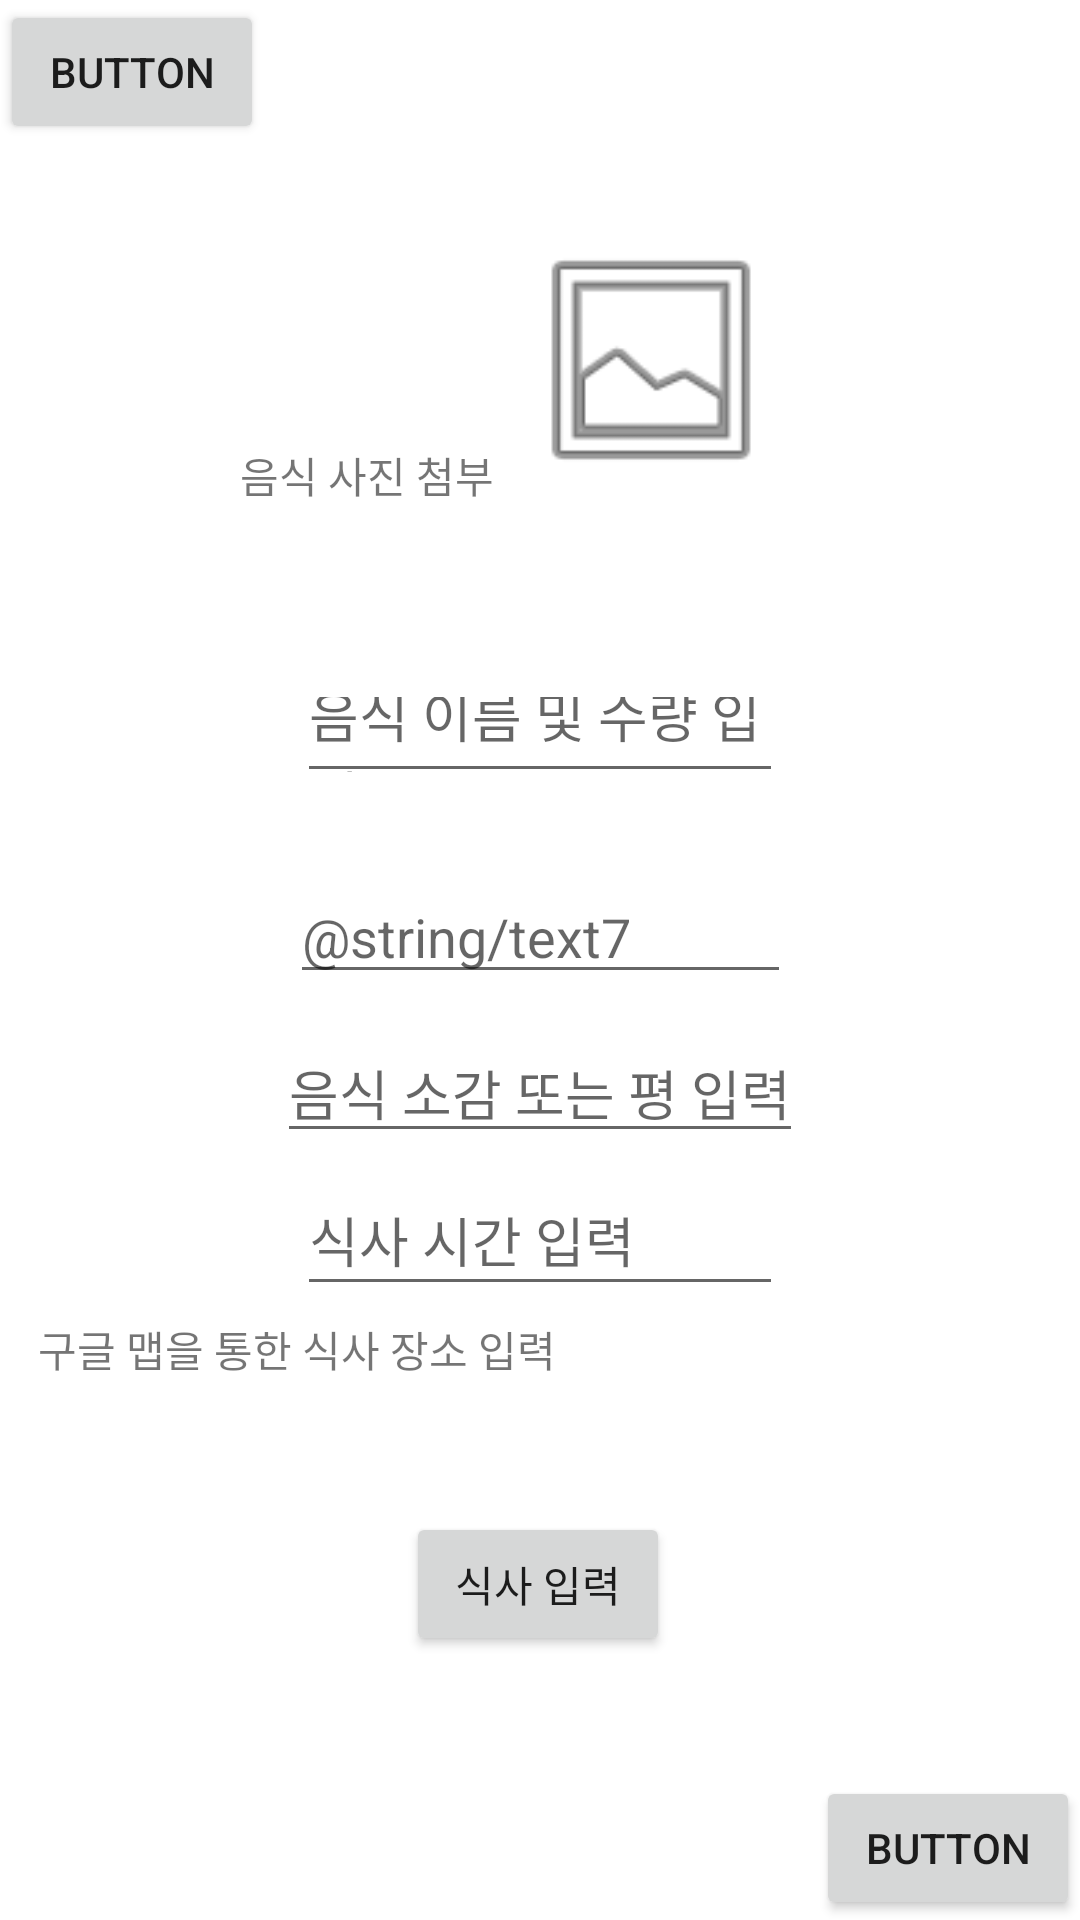

Where to tap for icons on this 1080 × 1920 app screen, as (x=x, y=y):
gallery: (x=651, y=360)
